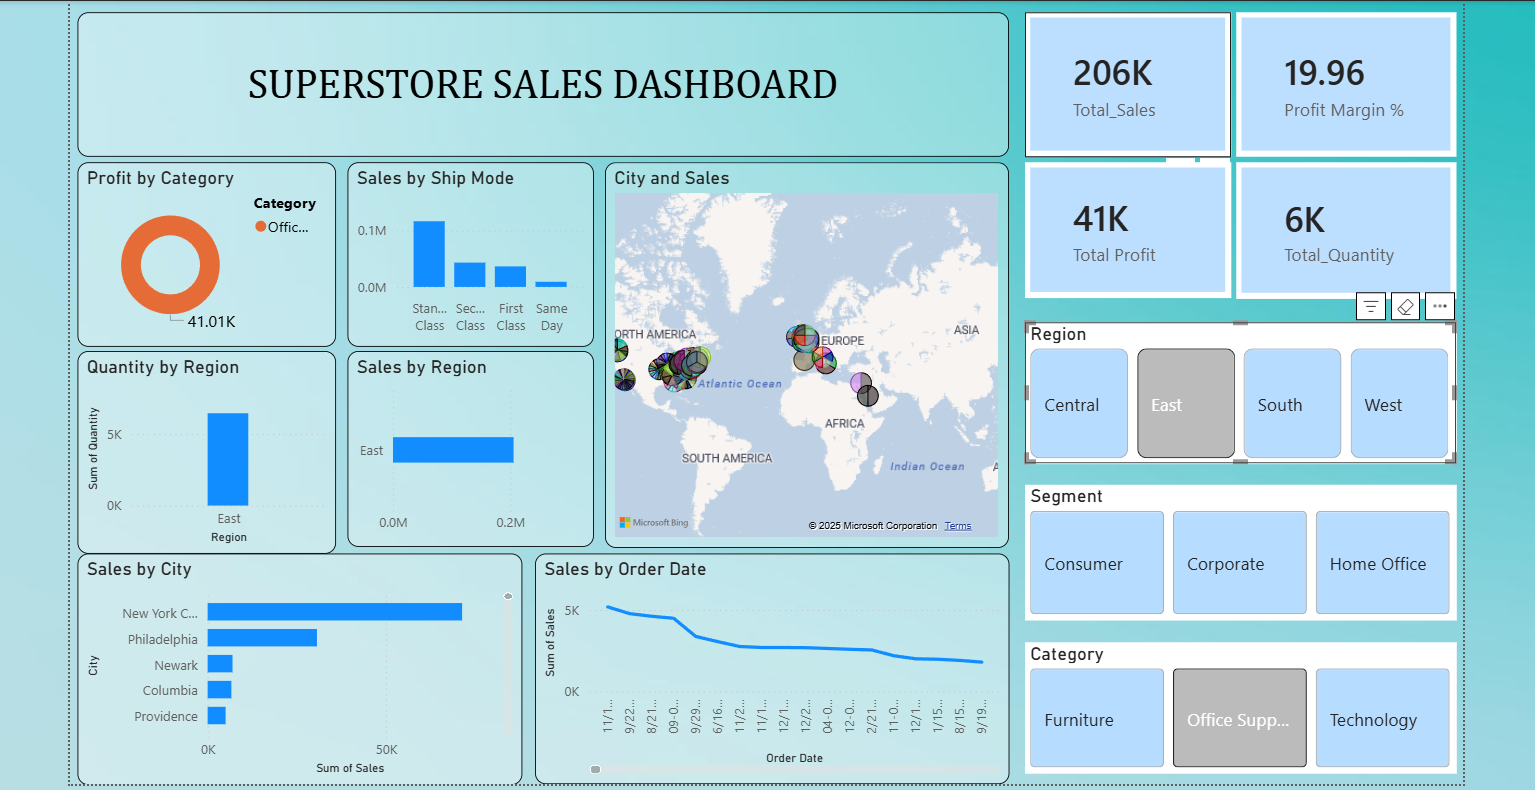

What the dashboard file says about the page in this screenshot:
{"tool":"powerbi","page":{"name":"Page 1","canvas":[1280,720],"ordinal":0},"visuals":[{"type":"cardVisual","fields":{"Data":["Sample - Superstore2.Profit Margin %"]},"box":[1070.9,10.5,203.5,132.6],"z":0},{"type":"cardVisual","fields":{"Data":["Sample - Superstore2.Total_Sales"]},"box":[877.9,10.5,189.5,132.6],"z":1000},{"type":"cardVisual","fields":{"Data":["Sample - Superstore2.Total Profit"]},"box":[877.9,147.7,189.5,124.4],"z":2000},{"type":"cardVisual","fields":{"Data":["Sample - Superstore2.Total_Quantity"]},"box":[1072.1,147.7,202.3,125.6],"z":3000},{"type":"clusteredBarChart","title":"Sales by City","fields":{"Category":["Sample - Superstore2.City"],"Y":["Sum(Sample - Superstore2.Sales)"]},"box":[6.9,507.7,408.9,212.5],"z":4000},{"type":"clusteredBarChart","title":"Sales by Region","fields":{"Y":["Sum(Sample - Superstore2.Sales)"],"Category":["Sample - Superstore2.Region"]},"box":[254.7,322.1,226.7,180.2],"z":5000},{"type":"columnChart","title":"Quantity by Region","fields":{"Category":["Sample - Superstore2.Region"],"Y":["Sum(Sample - Superstore2.Quantity)"]},"box":[7,322,237,180],"z":6000},{"type":"donutChart","title":"Profit by Category","fields":{"Category":["Sample - Superstore2.Category"],"Y":["Sum(Sample - Superstore2.Profit)"]},"box":[7,143,237.2,174.4],"z":7000},{"type":"advancedSlicerVisual","fields":{"Values":["Sample - Superstore2.Region"]},"box":[883.7,294.2,390.7,131.4],"z":8000},{"type":"advancedSlicerVisual","fields":{"Values":["Sample - Superstore2.Segment"]},"box":[877.9,444.2,396.5,124.4],"z":9000},{"type":"advancedSlicerVisual","fields":{"Values":["Sample - Superstore2.Category"]},"box":[877.9,589.5,396.5,120.9],"z":10000},{"type":"lineChart","title":"Sales by Order Date","fields":{"Category":["Sample - Superstore2.Order Date"],"Y":["Sum(Sample - Superstore2.Sales)"]},"box":[426.7,508.1,436,211.6],"z":11000},{"type":"map","fields":{"Series":["Sample - Superstore2.Sales"],"Category":["Sample - Superstore2.City"]},"box":[491.9,147.7,370.9,354.7],"z":12000},{"type":"clusteredColumnChart","title":" Sales by Ship Mode","fields":{"Y":["Sum(Sample - Superstore2.Sales)"],"Category":["Sample - Superstore2.Ship Mode"]},"box":[254.7,147.7,226.7,169.8],"z":13000},{"type":"textbox","box":[15.1,33.7,847.7,95.3],"z":13001}]}

Visuals, with their boxes on the page's 1280x720 design canvas (x1, y1, x2, y2). These are canvas units, not pixel positions in the 1535x790 screenshot, which may show the page scaled, cropped or inside an application window:
cardVisual - Sample - Superstore2.Profit Margin %: detection(1071, 10, 1274, 143)
cardVisual - Sample - Superstore2.Total_Sales: detection(878, 10, 1067, 143)
cardVisual - Sample - Superstore2.Total Profit: detection(878, 148, 1067, 272)
cardVisual - Sample - Superstore2.Total_Quantity: detection(1072, 148, 1274, 273)
"Sales by City" clusteredBarChart: detection(7, 508, 416, 720)
"Sales by Region" clusteredBarChart: detection(255, 322, 481, 502)
"Quantity by Region" columnChart: detection(7, 322, 244, 502)
"Profit by Category" donutChart: detection(7, 143, 244, 317)
advancedSlicerVisual - Sample - Superstore2.Region: detection(884, 294, 1274, 426)
advancedSlicerVisual - Sample - Superstore2.Segment: detection(878, 444, 1274, 569)
advancedSlicerVisual - Sample - Superstore2.Category: detection(878, 590, 1274, 710)
"Sales by Order Date" lineChart: detection(427, 508, 863, 720)
map - Sample - Superstore2.Sales x Sample - Superstore2.City: detection(492, 148, 863, 502)
" Sales by Ship Mode" clusteredColumnChart: detection(255, 148, 481, 318)
textbox: detection(15, 34, 863, 129)
